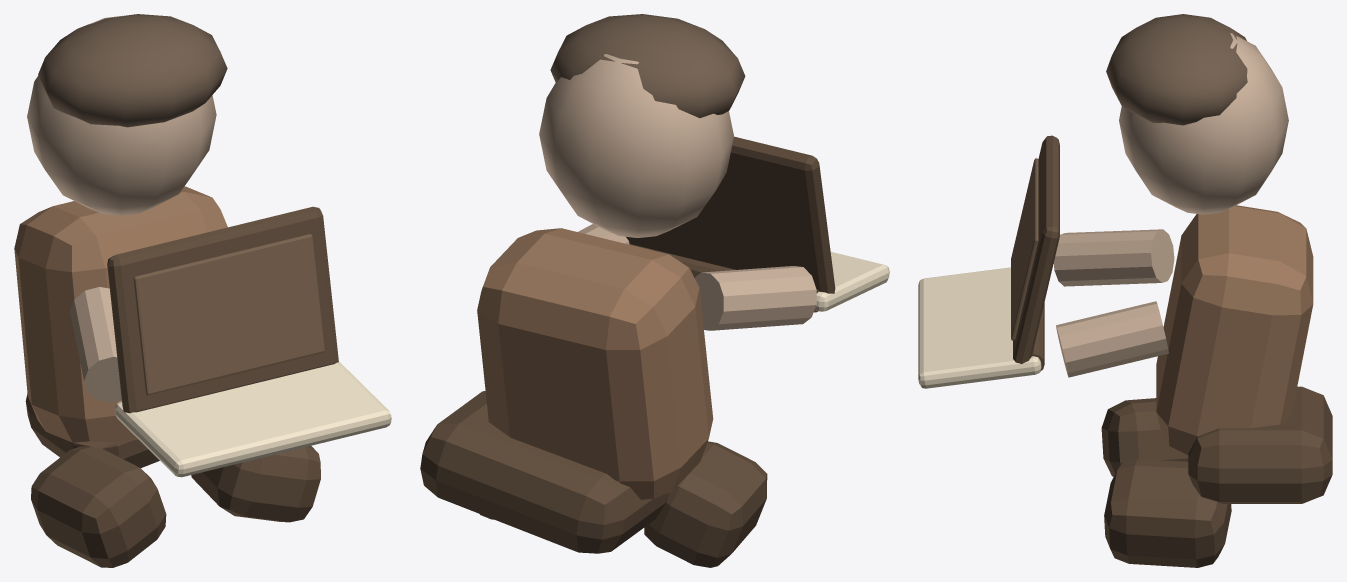
The model's file is reader-with-book.glb.
3 views of the same model, side by side, from view 1: azimuth 30°, elevation 25°; view 2: azimuth 150°, elevation 25°; view 3: azimuth 270°, elevation 25° (orthographic). The views are drawn at different scales.
Visible parts, largest first — view 1: LaptopDisplay, Torso, LaptopKeyboard, HairCap, Head, LaptopScreen, LegLeft, LegRight, ArmLeft, Hip; view 2: Torso, Head, Hip, LaptopScreen, HairCap, LegLeft, ArmLeft, LaptopKeyboard, LaptopHinge; view 3: Torso, Head, HairCap, Hip, LegRight, LaptopKeyboard, ArmLeft, ArmRight, LaptopScreen, LegLeft, LaptopDisplay.
Boxes of the visible parts, x1=… form: LaptopDisplay: x1=133, y1=234, x2=324, y2=395; Torso: x1=14, y1=186, x2=227, y2=448; LaptopKeyboard: x1=115, y1=361, x2=391, y2=477; HairCap: x1=38, y1=14, x2=227, y2=127; Head: x1=27, y1=15, x2=216, y2=215; LaptopScreen: x1=107, y1=206, x2=338, y2=413; LegLeft: x1=31, y1=446, x2=166, y2=567; LegRight: x1=191, y1=446, x2=320, y2=522; ArmLeft: x1=70, y1=287, x2=121, y2=402; Hip: x1=25, y1=393, x2=159, y2=468; Torso: x1=477, y1=228, x2=713, y2=499; Head: x1=539, y1=54, x2=733, y2=237; Hip: x1=420, y1=391, x2=668, y2=553; LaptopScreen: x1=626, y1=136, x2=835, y2=293; HairCap: x1=550, y1=14, x2=745, y2=118; LegLeft: x1=644, y1=441, x2=767, y2=567; ArmLeft: x1=694, y1=266, x2=816, y2=330; LaptopKeyboard: x1=814, y1=252, x2=889, y2=311; LaptopHinge: x1=629, y1=244, x2=819, y2=312; Torso: x1=1156, y1=205, x2=1313, y2=454; Head: x1=1119, y1=33, x2=1288, y2=214; HairCap: x1=1106, y1=14, x2=1247, y2=125; Hip: x1=1188, y1=386, x2=1332, y2=503; LegRight: x1=1104, y1=459, x2=1231, y2=567; LaptopKeyboard: x1=918, y1=267, x2=1041, y2=388; ArmLeft: x1=1053, y1=229, x2=1174, y2=286; ArmRight: x1=1056, y1=301, x2=1168, y2=377; LaptopScreen: x1=1013, y1=135, x2=1059, y2=363; LegLeft: x1=1101, y1=398, x2=1188, y2=476; LaptopDisplay: x1=1011, y1=158, x2=1038, y2=340.
Size of the model in its own units: 1.15 by 2.03 by 1.61.
